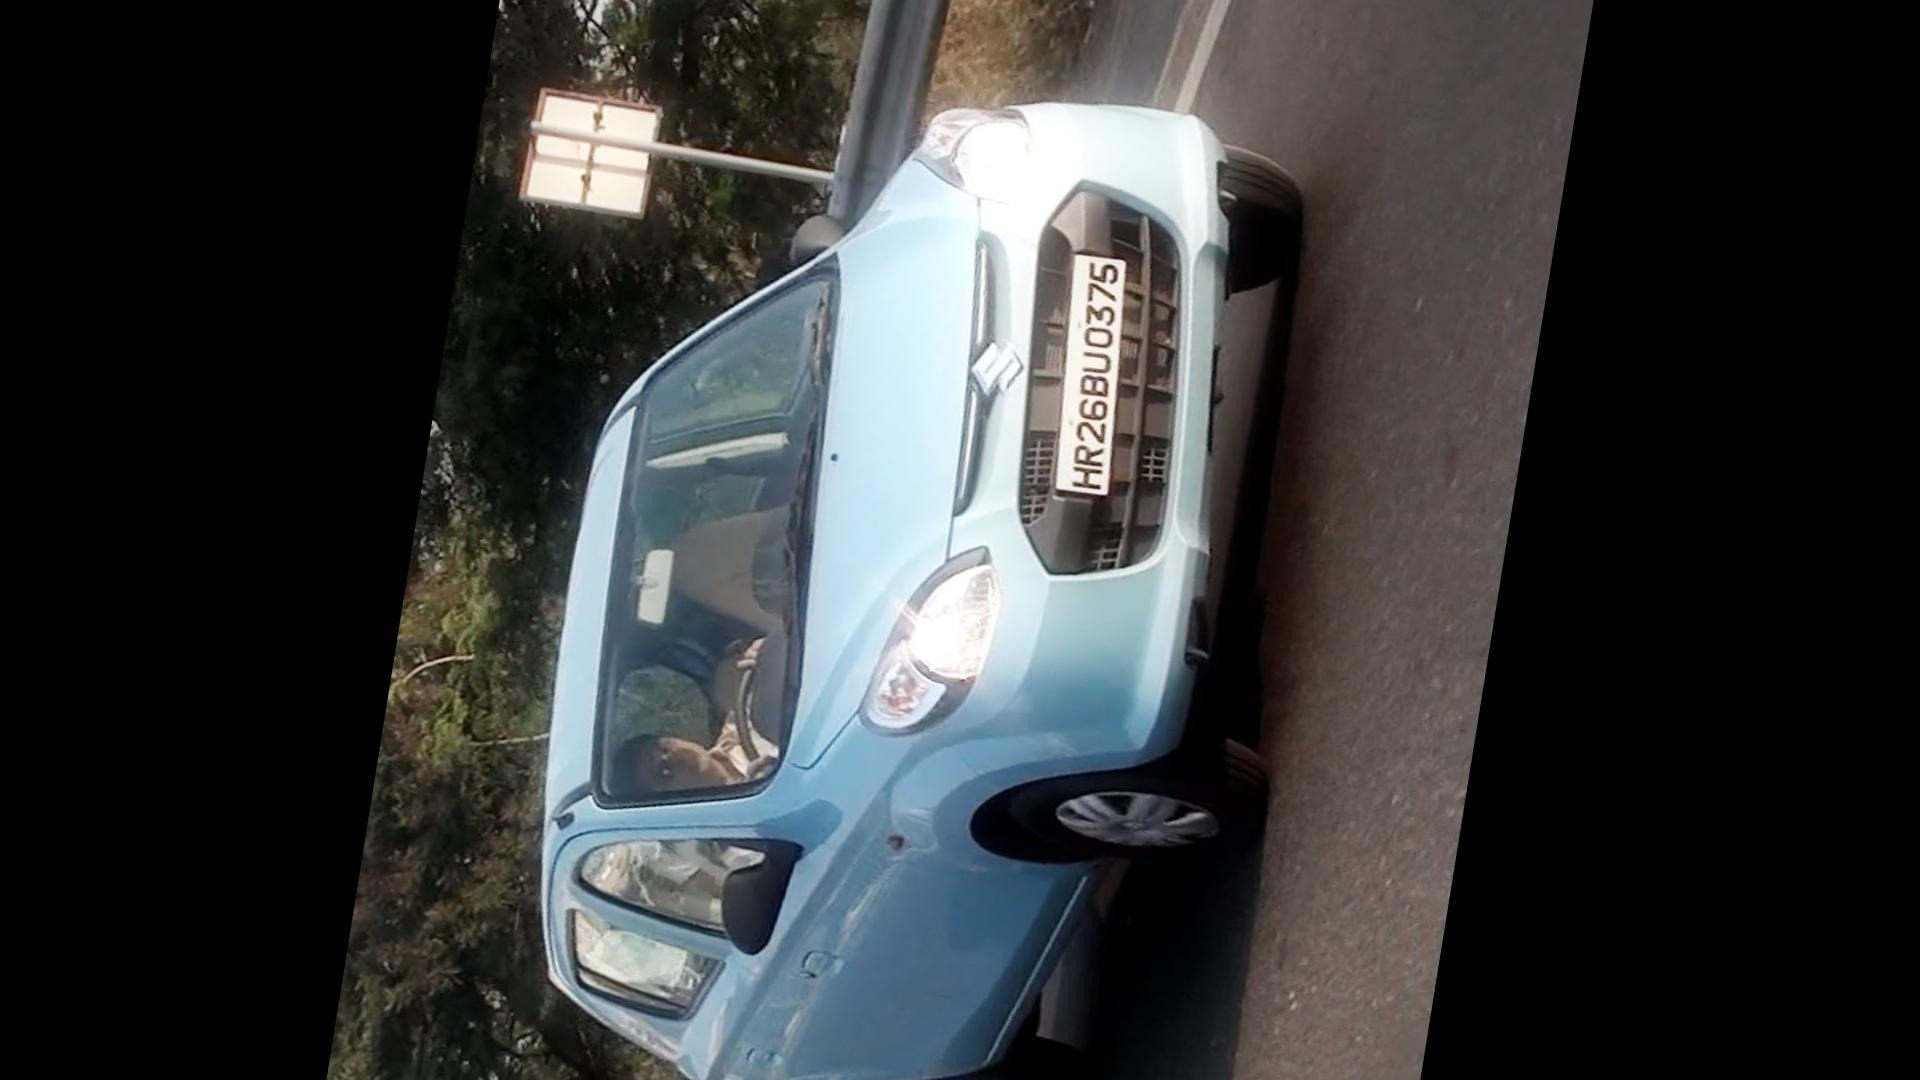plate: (1043, 243, 1144, 505)
